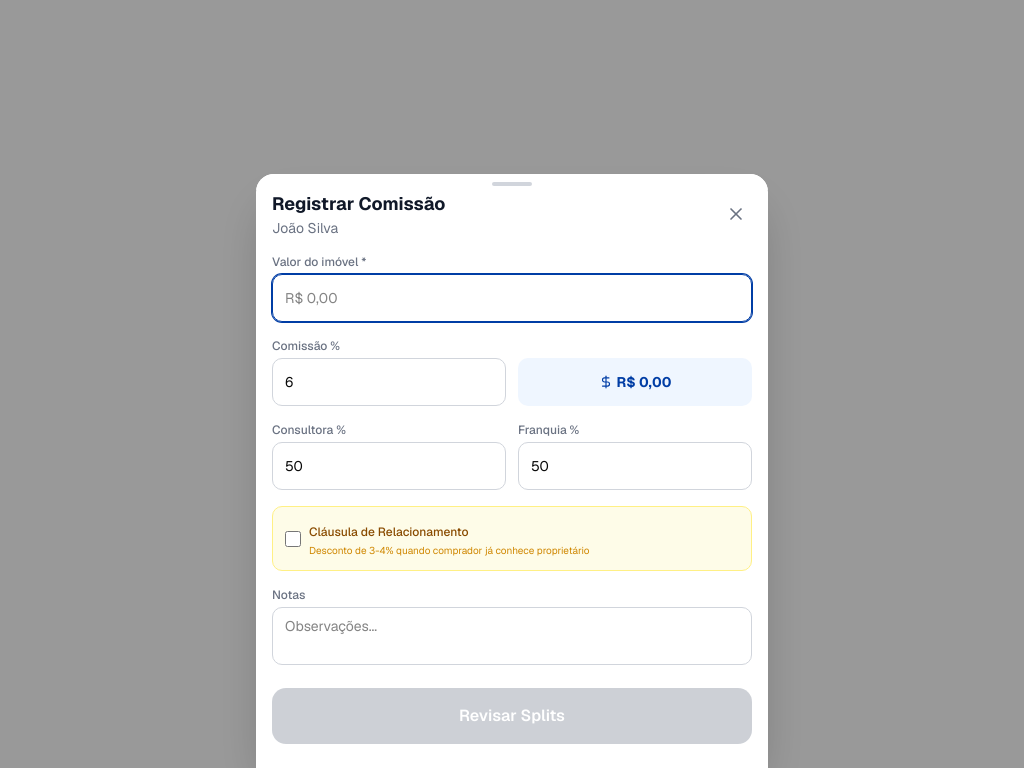
Test: ComissaoForm › shows referral split row when referralId is provided and review step reached
Type "1000000" into the field with placeholder "R$ 0,00".
click(512, 298); type("1000000")  # box [272,274,752,322]
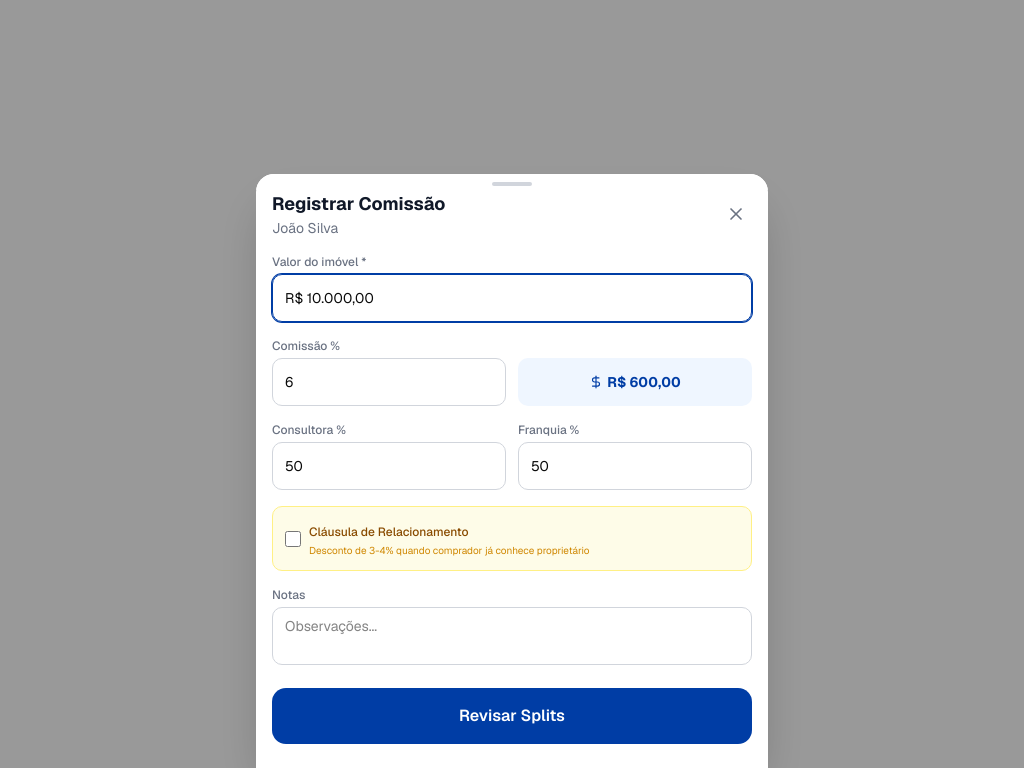
Click the button "Revisar Splits".
click(512, 716)  # box [272,688,752,744]
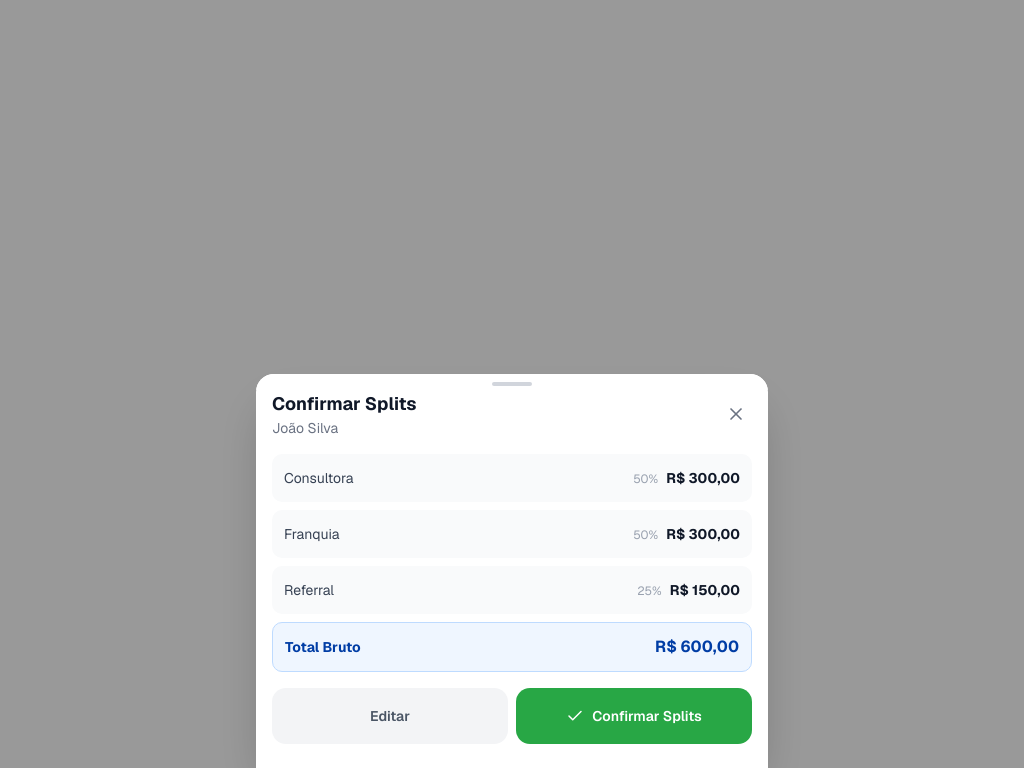
Expected: the text "Referral" is shown, [284,580,334,600]
